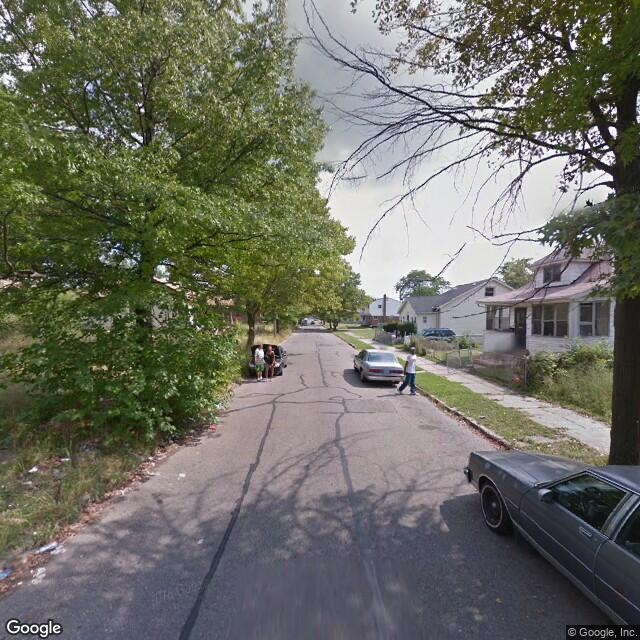litter: (39, 542, 61, 556), (33, 564, 46, 585), (215, 402, 229, 413), (207, 423, 217, 433), (1, 567, 9, 579), (58, 455, 71, 462), (177, 471, 188, 479), (24, 479, 34, 487), (479, 415, 488, 421), (30, 465, 35, 473)
